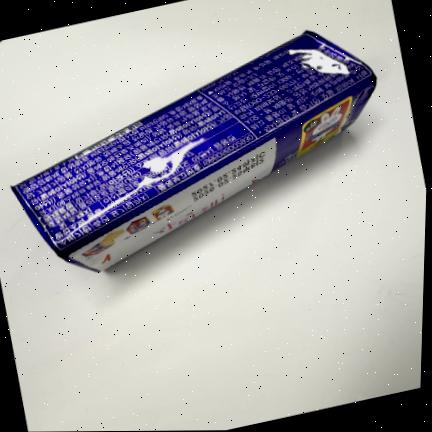cracker_ace: (12, 31, 377, 272)
